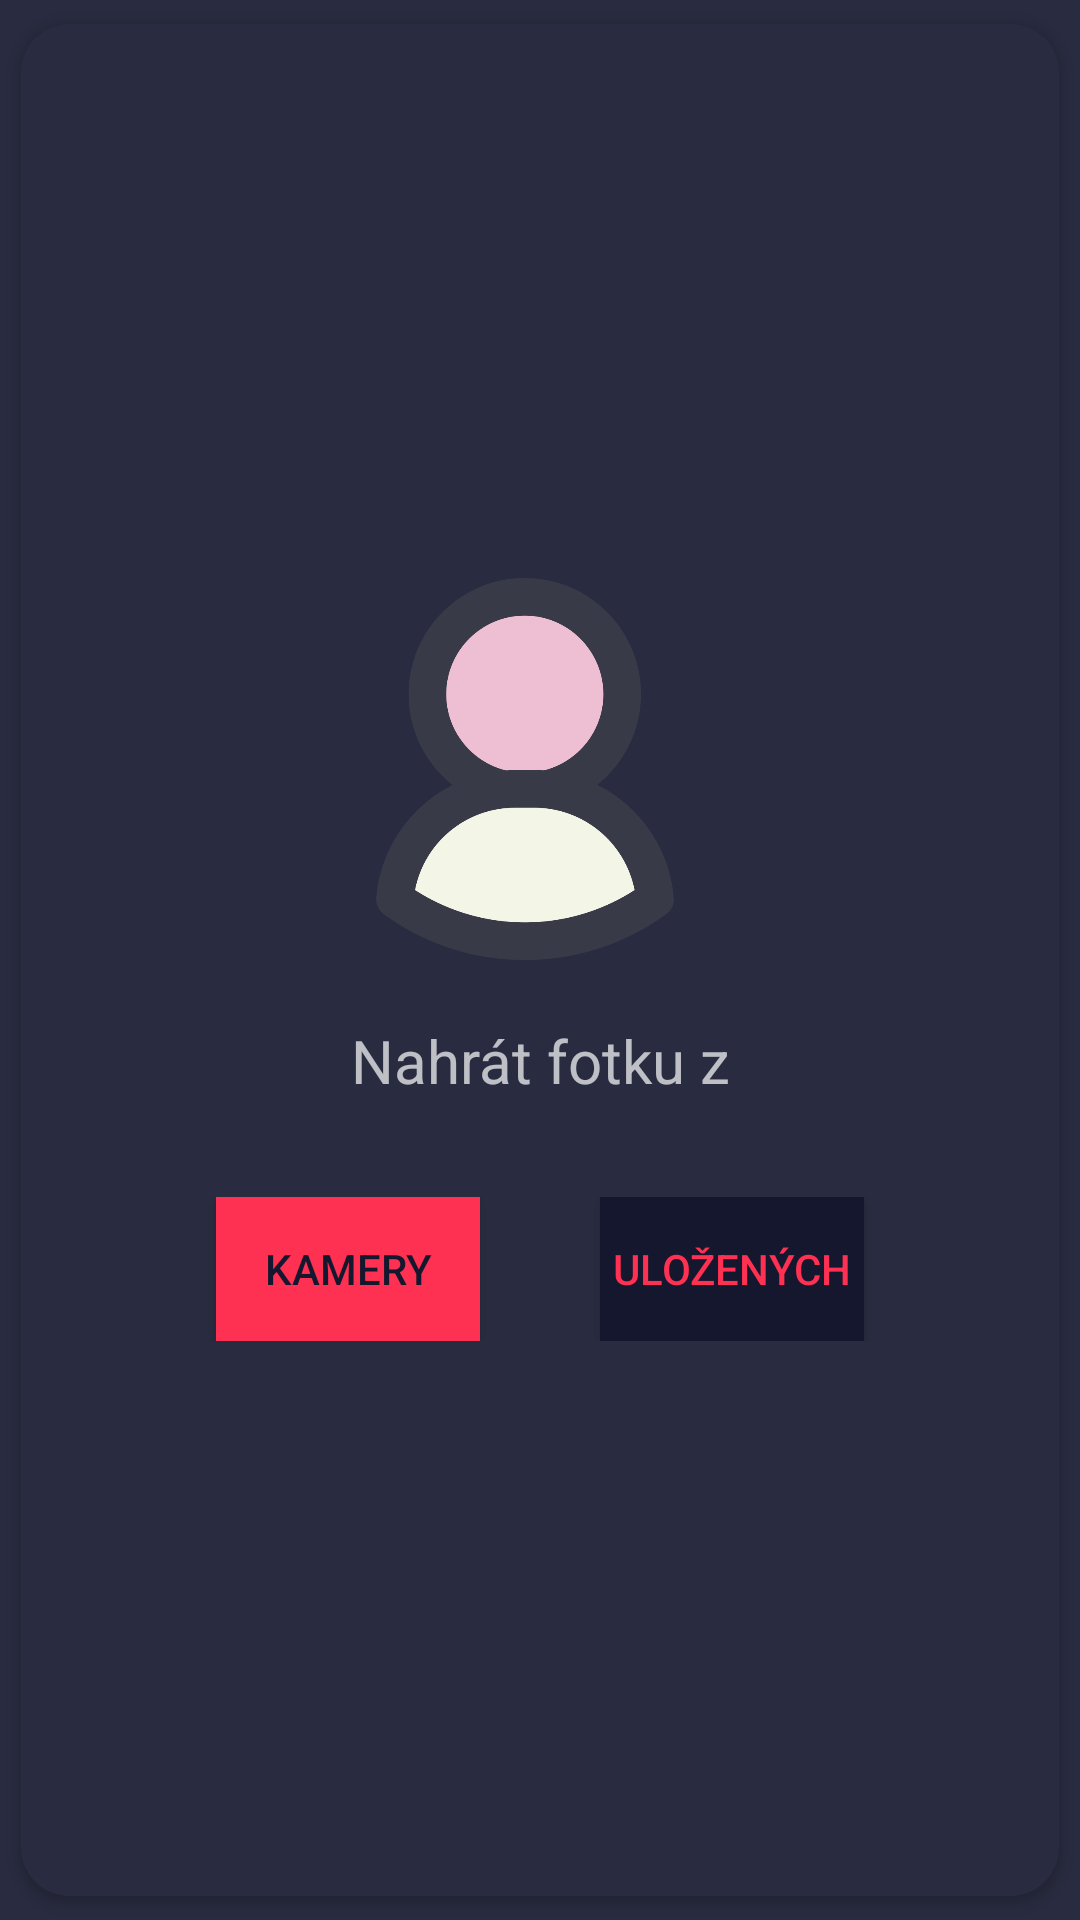

Named icons in this screenshot (1080 x 1920) and their bounding boxes, Rect(x1, y1, x2, y2):
user: Rect(415, 615, 635, 923)
